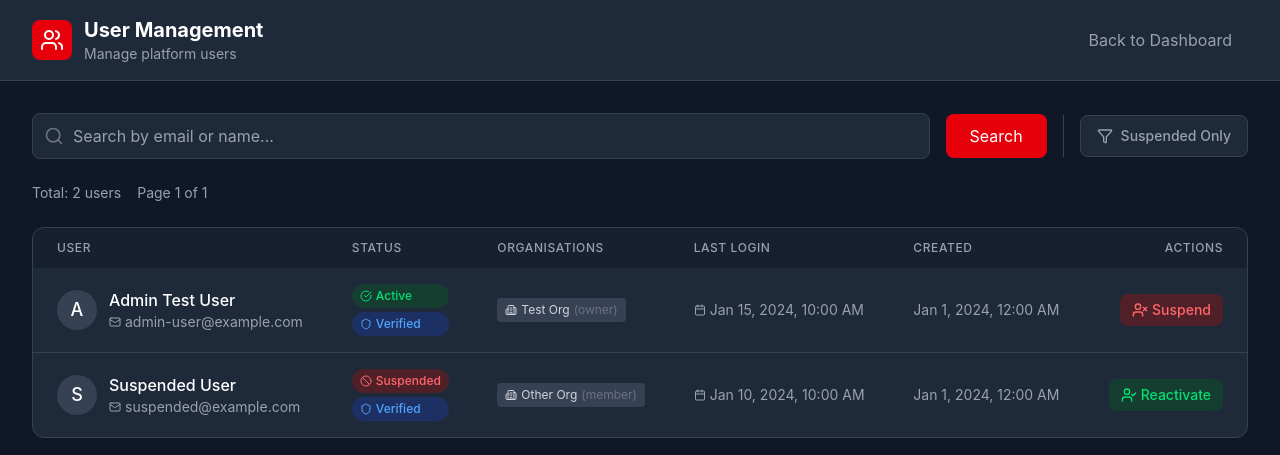
it: AdminUsers › filter functionality › should show all users when filter is toggled off
Check: the text "Admin Test User" is shown, box [109,290,235,310]
# Turn on filter
Click the button "Suspended Only" at (1164, 136), box [1080,115,1248,157]
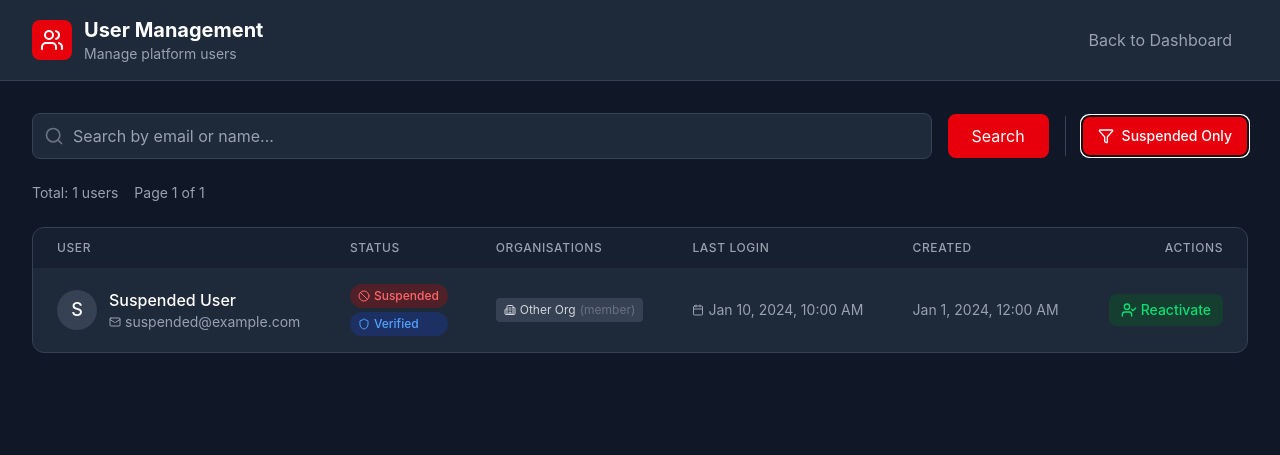
Check: the text "Admin Test User" is gone
# Turn off filter
Click the button "Suspended Only" at (1165, 136), box [1082,116,1248,156]
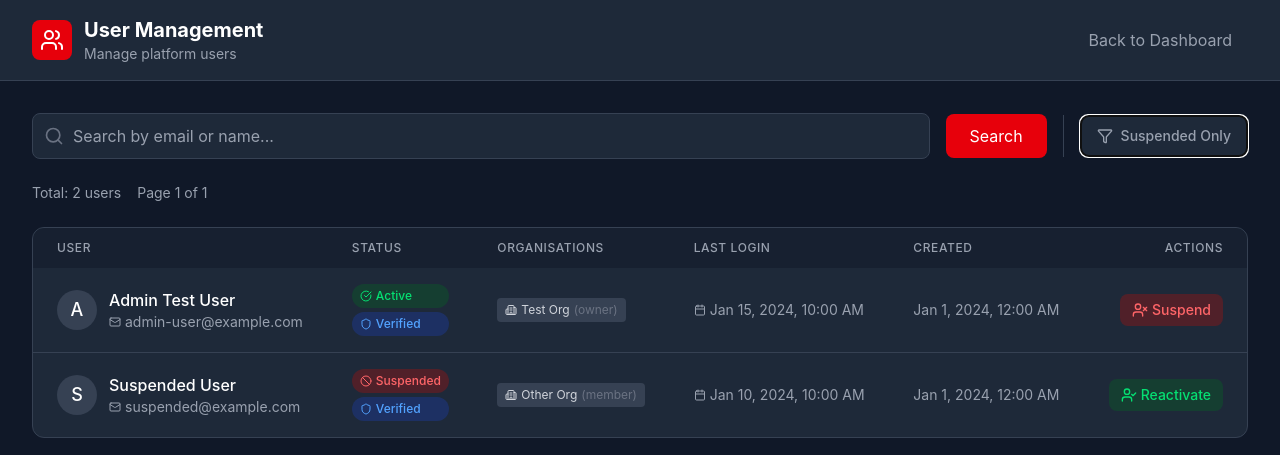
Check: the text "Admin Test User" is shown, box [109,290,235,310]
